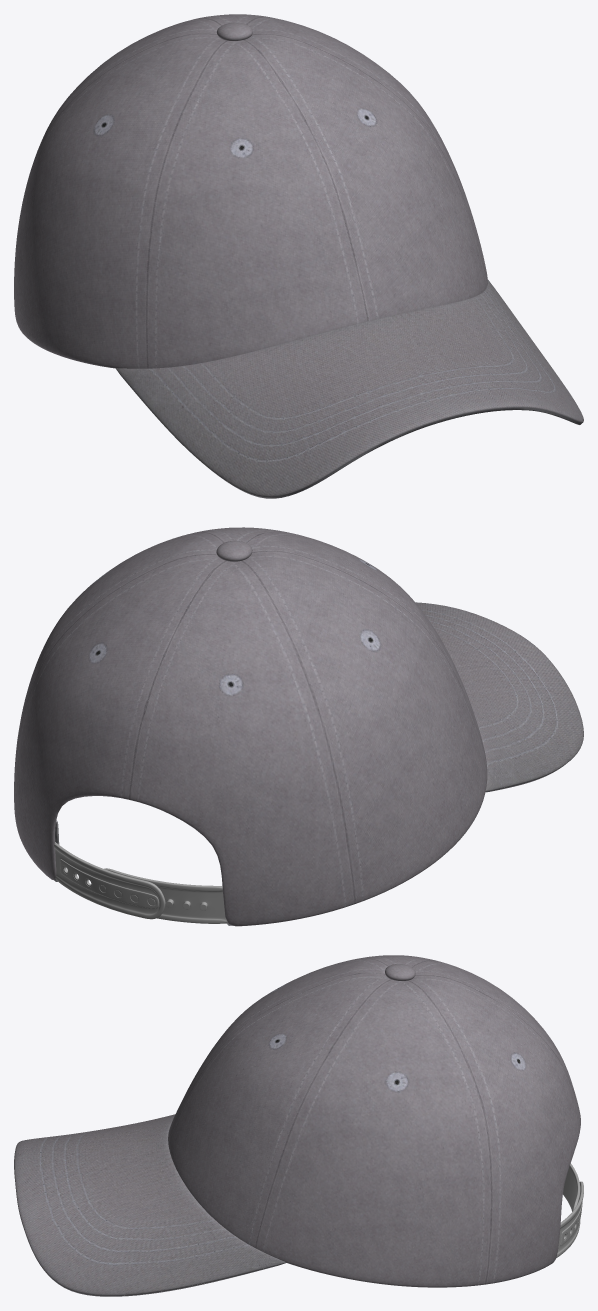
Rendered from cap.glb.
The picture shows the model from 3 angles, top to bottom: view 1: azimuth 30°, elevation 25°; view 2: azimuth 150°, elevation 25°; view 3: azimuth 270°, elevation 25°; orthographic projection. The views are drawn at different scales.
Visible parts, largest first — view 1: cap; view 2: cap; view 3: cap.
Boxes of the visible parts, <box> form: cap: <box>14,14,583,498</box>; cap: <box>14,527,583,926</box>; cap: <box>14,955,583,1296</box>.
Bounding box in the file's own units: 0.2264 × 0.1578 × 0.3146.
Materials: 3 (1 with a texture image).
